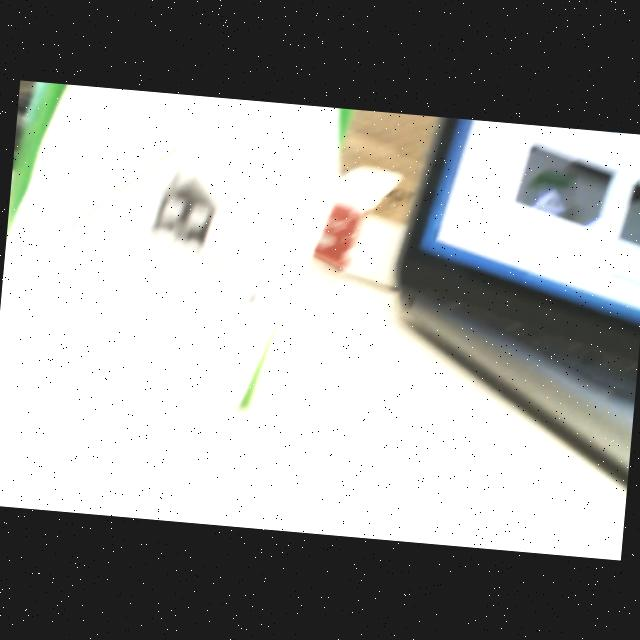Tsunami: (68, 115, 256, 306)
